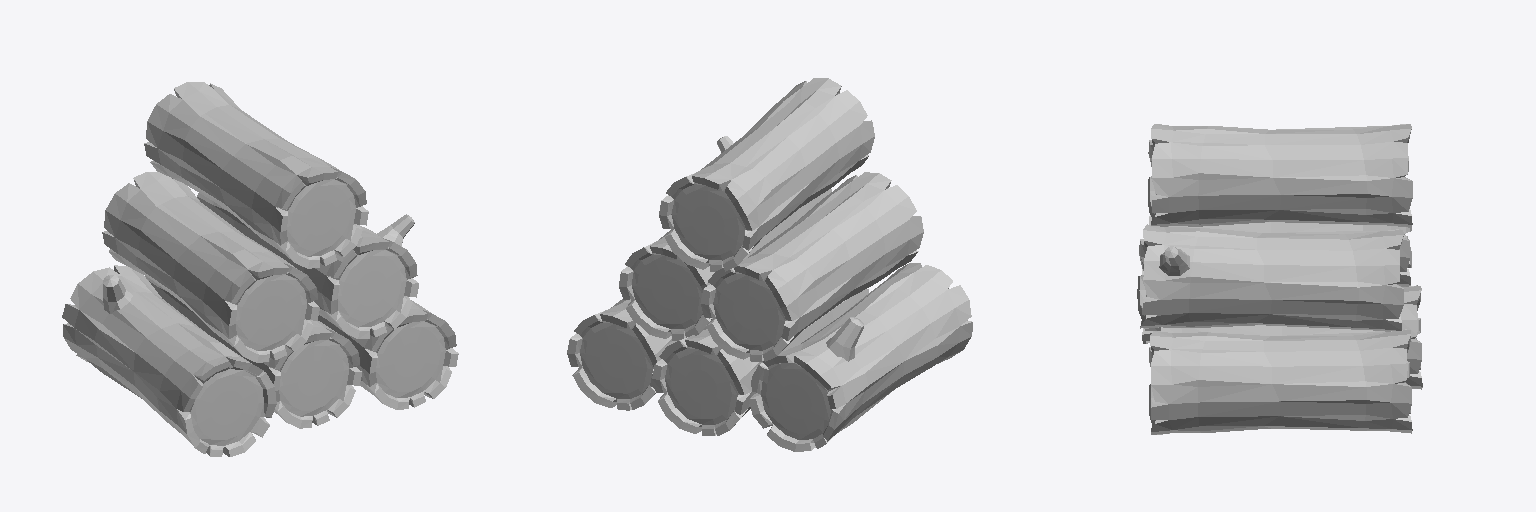
The model's file is Wood_Log_Stack.obj.
3 renders of one model, left to right at view 1: azimuth 30°, elevation 25°; view 2: azimuth 150°, elevation 25°; view 3: azimuth 270°, elevation 25°, orthographic.
Parts seen in each view (by area): view 1: Wood_Log_Stack; view 2: Wood_Log_Stack; view 3: Wood_Log_Stack.
Boxes of the visible parts, x1,y1,x2,y2 form: Wood_Log_Stack: [62, 82, 458, 456]; Wood_Log_Stack: [567, 78, 972, 451]; Wood_Log_Stack: [1137, 124, 1422, 434].
Bounding box in the file's own units: 1.68 × 1.5 × 1.5.